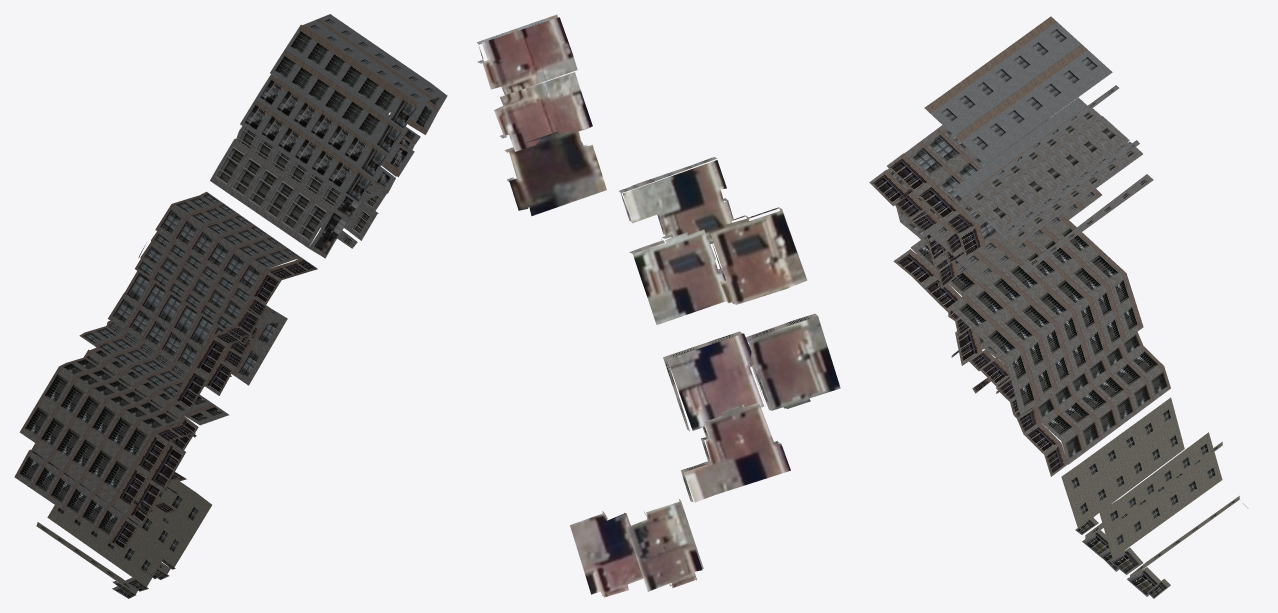
Rendered from tile_LOD4_r13_c0.glb.
3 renders of one model, left to right at view 1: azimuth 30°, elevation 25°; view 2: azimuth 150°, elevation 25°; view 3: azimuth 270°, elevation 25°, orthographic. The views are drawn at different scales.
Size of the model in its own units: 77 by 101 by 57.5.
Materials: 33 (33 with a texture image).
